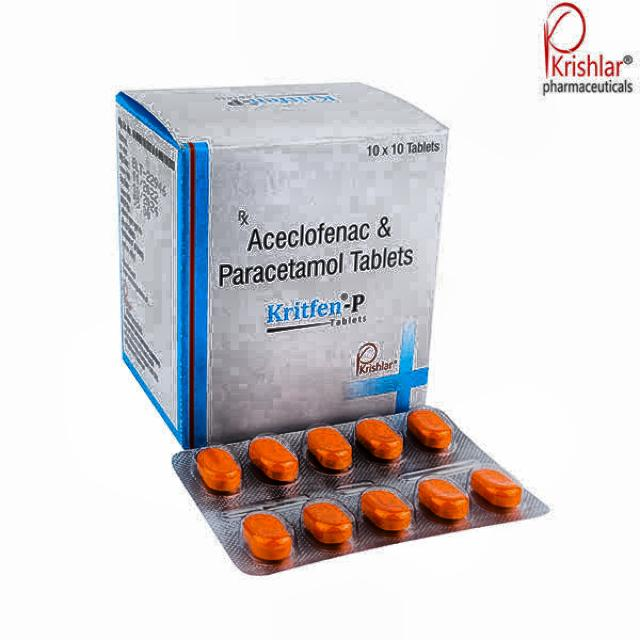Paracetamol: (212, 212, 424, 326)
